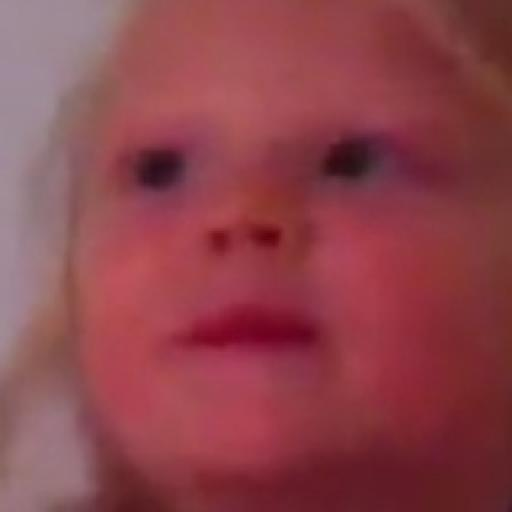Autism: (61, 1, 512, 512)
